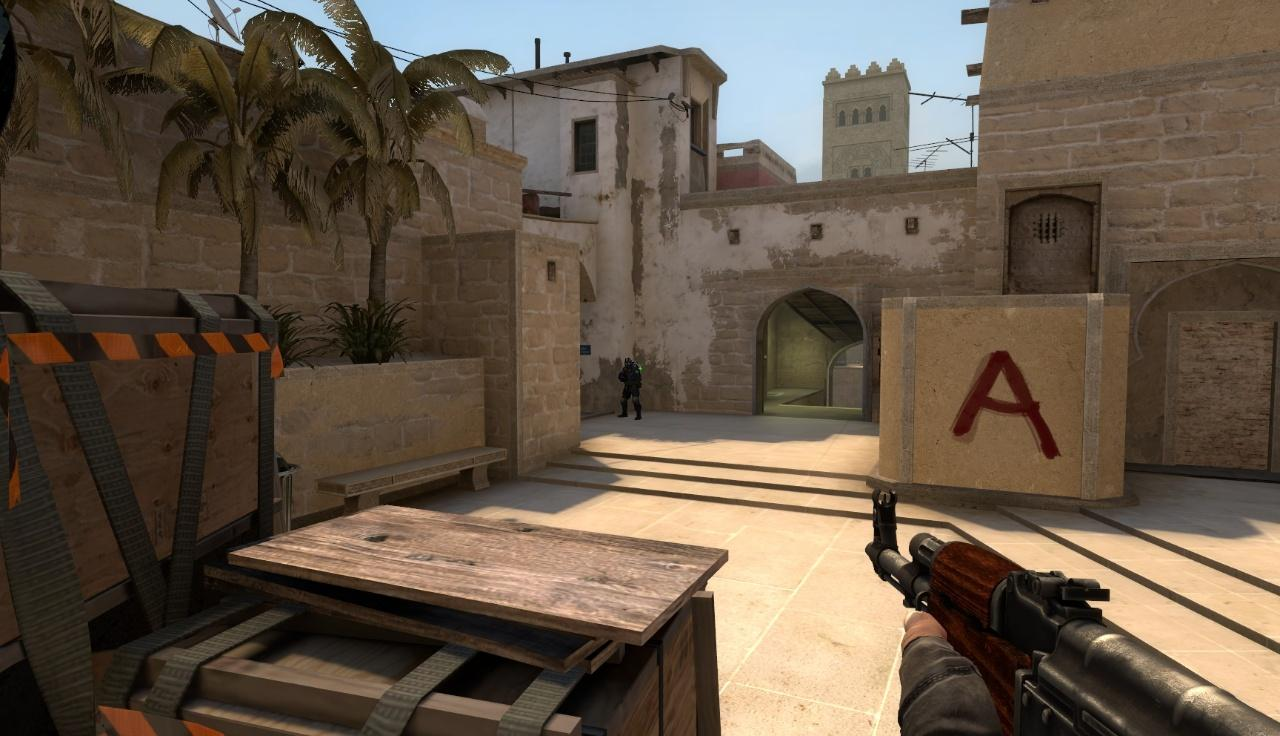ct: (617, 358, 642, 420)
cthead: (624, 358, 632, 369)
rifle: (865, 488, 1280, 736)
